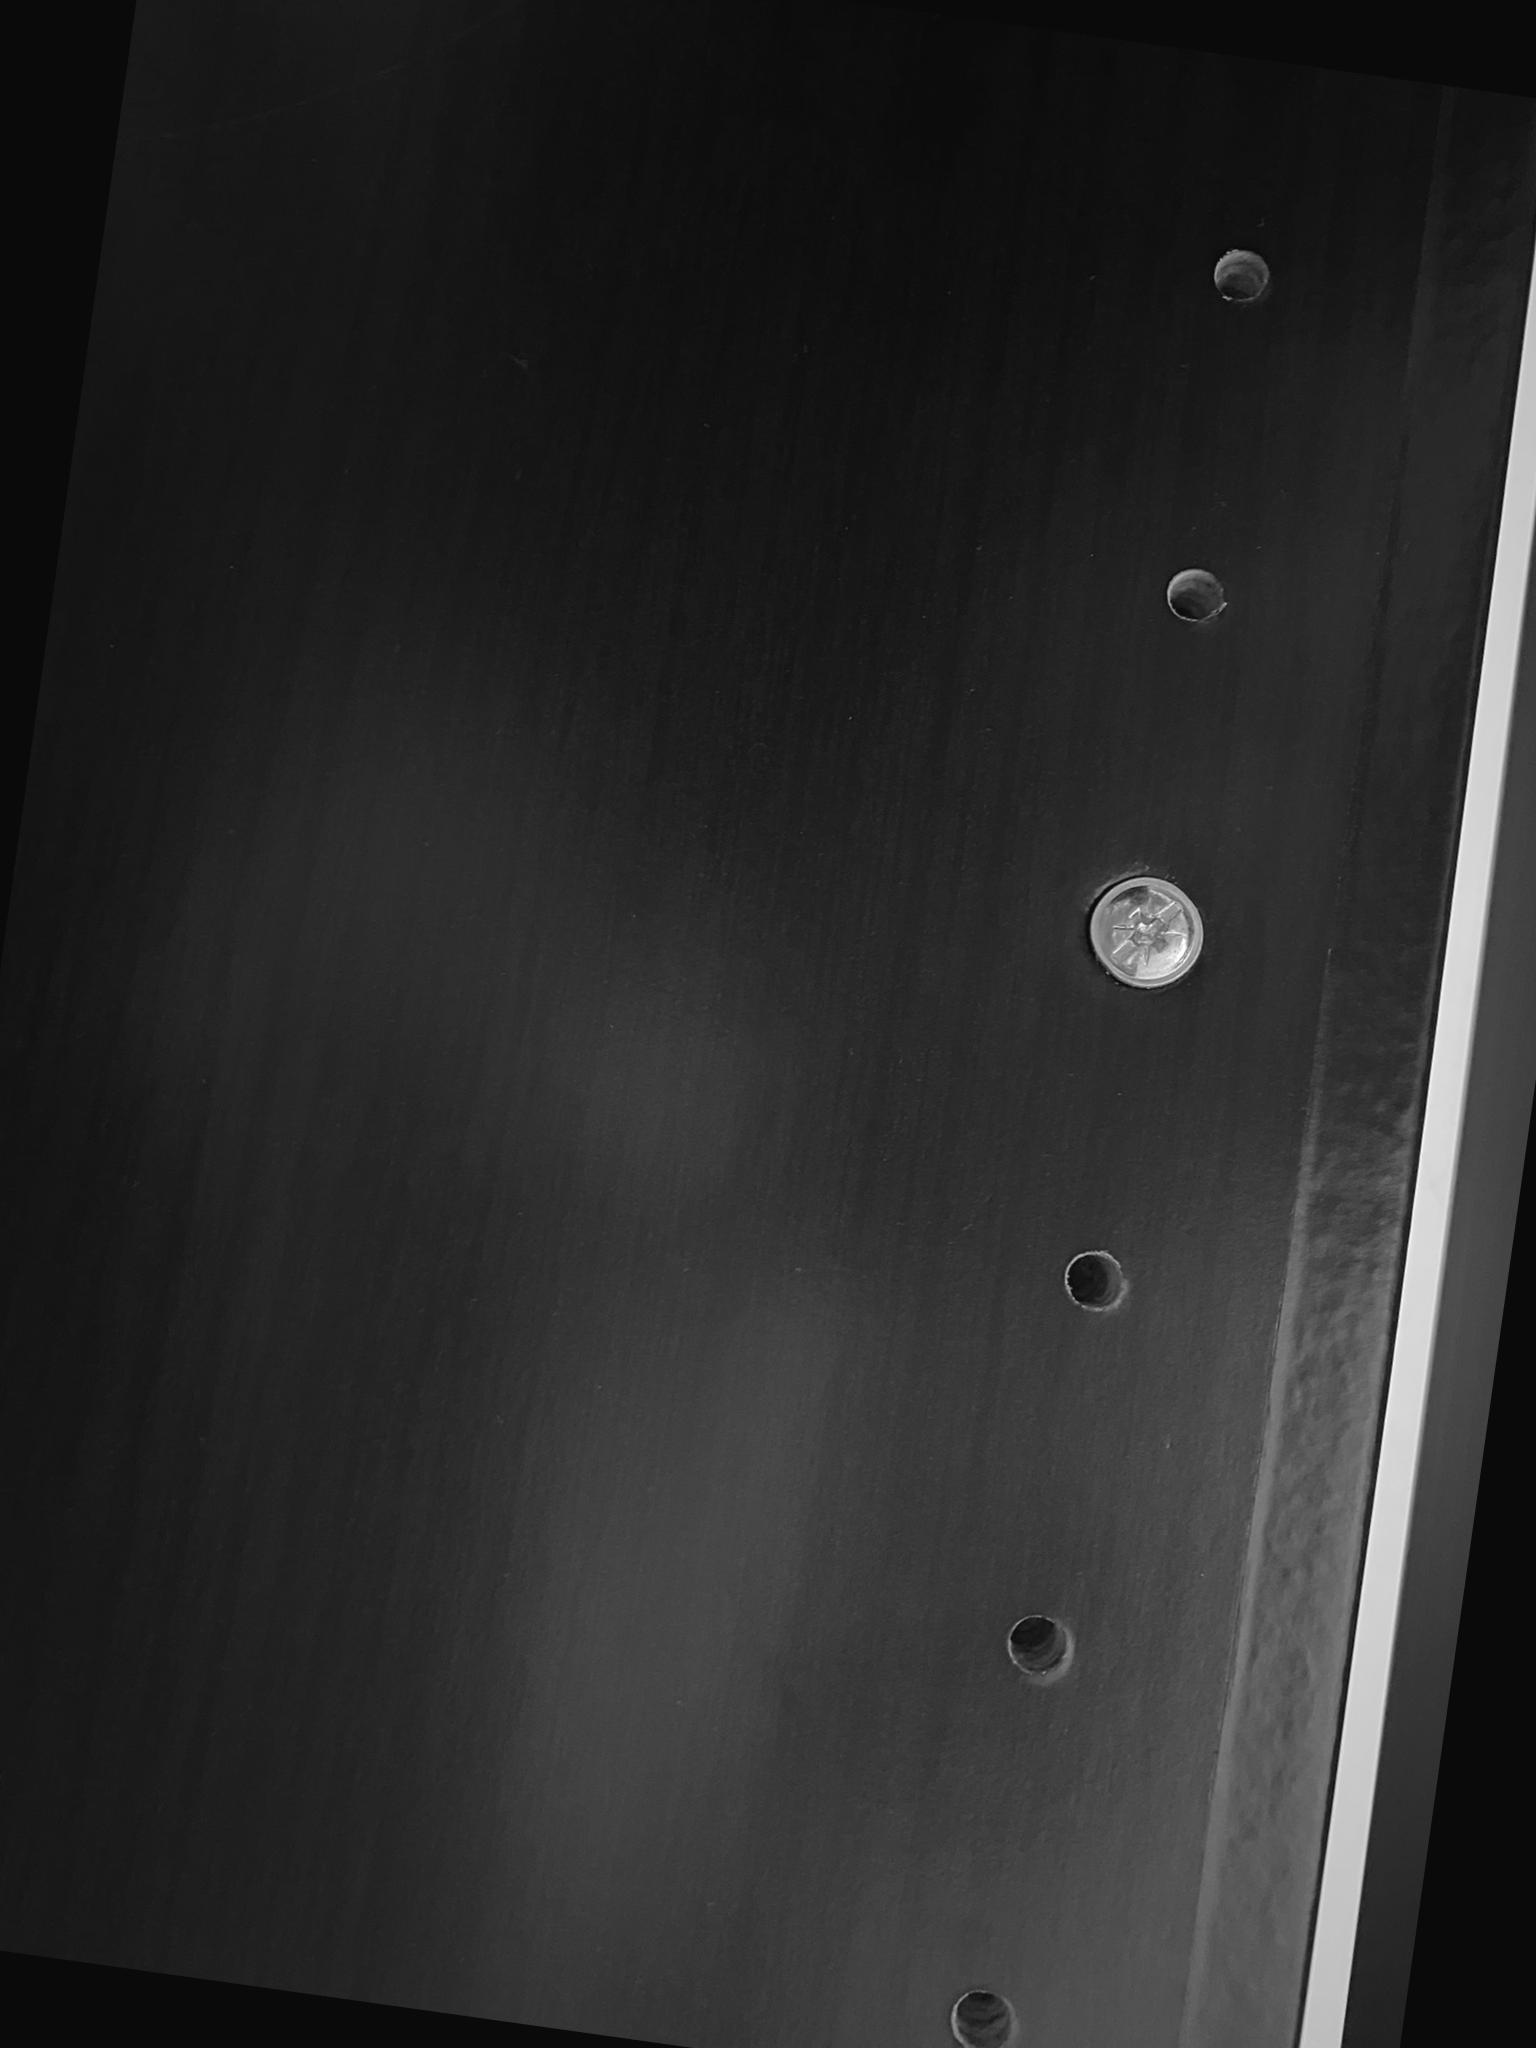philips-PZ: (1079, 864, 1213, 998)
